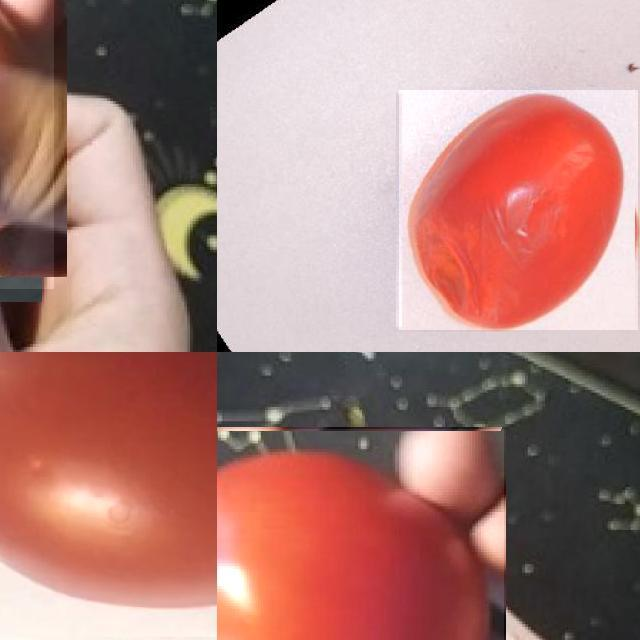Fresh Tomato: (0, 352, 217, 640), (217, 429, 504, 640)
Rotten Tomato: (399, 90, 638, 330), (0, 0, 54, 289)
